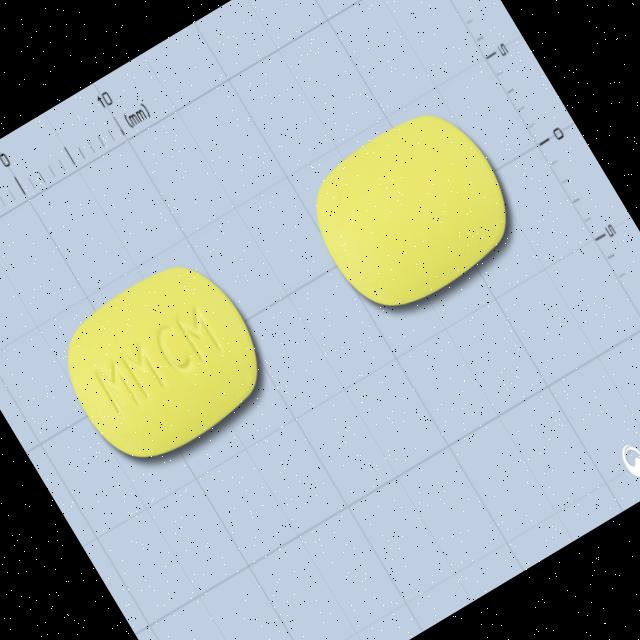Claricin - 250mg: (37, 237, 290, 485), (287, 88, 538, 332)
